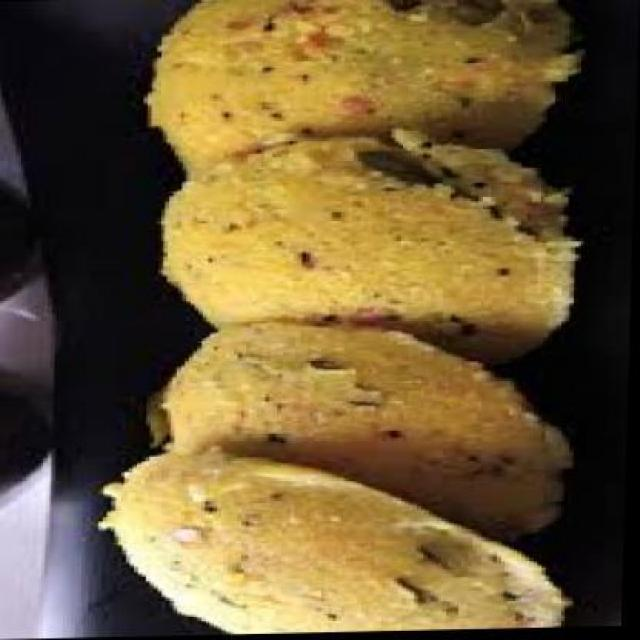idli: (163, 128, 583, 369), (148, 317, 580, 549), (102, 443, 580, 639), (146, 0, 583, 180)
